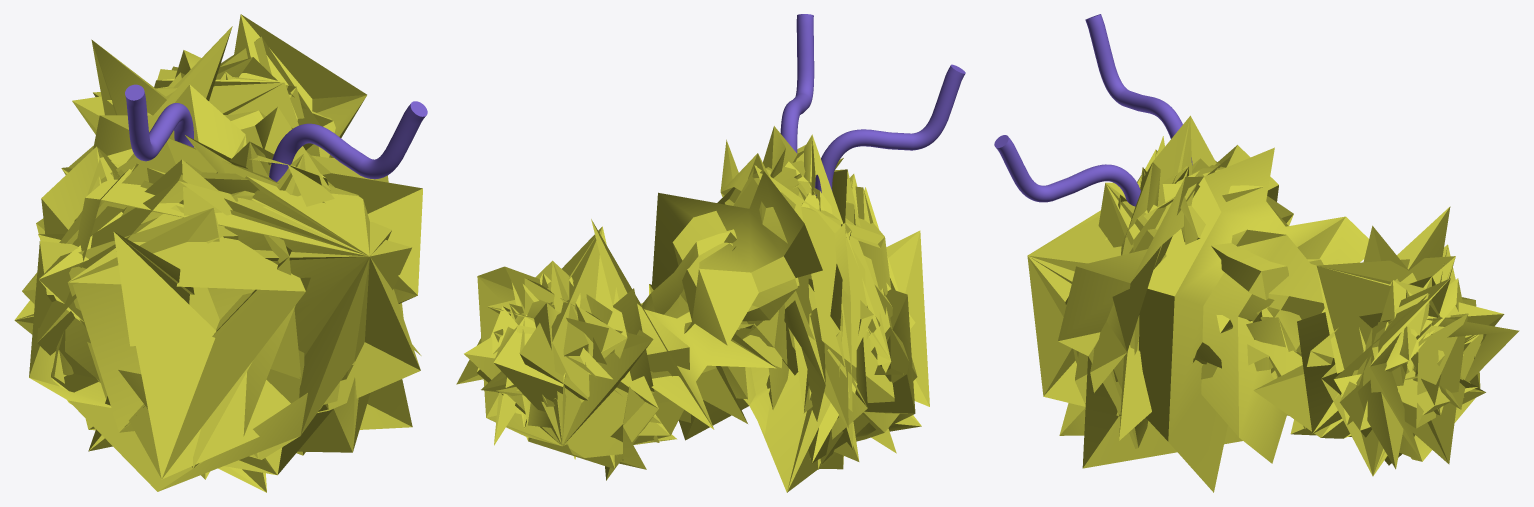
File: Catterpiller.fbx
3 views of the same model, side by side, from view 1: azimuth 30°, elevation 25°; view 2: azimuth 150°, elevation 25°; view 3: azimuth 270°, elevation 25° (orthographic). The views are drawn at different scales.
Visible parts, largest first — view 1: Capsule, Sweep, Sweep_1; view 2: Capsule, Sweep_1, Sweep; view 3: Capsule, Sweep, Sweep_1.
Part boxes in pixels (left/top/right/bottom): Capsule: left=14, top=14, right=422, bottom=492; Sweep: left=269, top=104, right=426, bottom=181; Sweep_1: left=125, top=92, right=193, bottom=161; Capsule: left=456, top=126, right=929, bottom=492; Sweep_1: left=815, top=65, right=964, bottom=195; Sweep: left=780, top=14, right=814, bottom=153; Capsule: left=1027, top=115, right=1519, bottom=492; Sweep: left=996, top=137, right=1140, bottom=206; Sweep_1: left=1085, top=14, right=1192, bottom=164.
Bounding box in the file's own units: 456 × 456 × 563.
